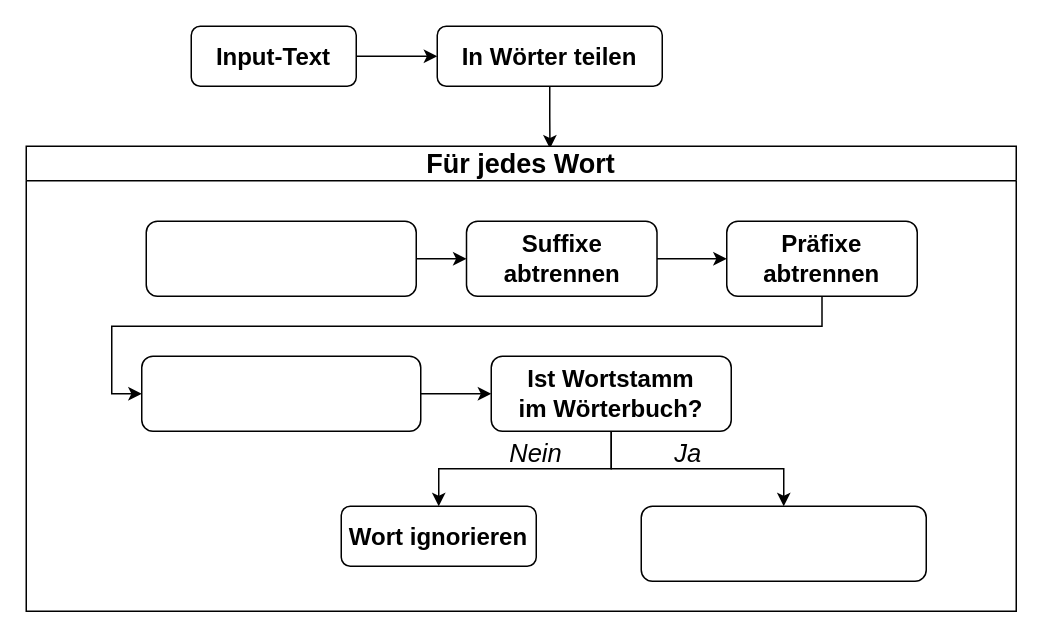
The diagram is 1043 pixels wide and 638 high, and some of its shapes have lost their labels. Here are the shapes that lost their labels. From the top down, the centre of each, then its label:
At (x=280, y=258): "Grammatikalische Endung abtrennen".
At (x=280, y=393): "Zusammengesetzte Worte trennen".
At (x=783, y=543): "Wahrscheinlichste Endungen wählen".
